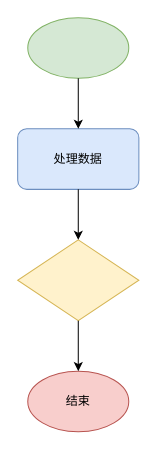
Some shapes in this 157 by 449 pixel diagram are drawn without their labels. The centre of each missing label's shape, as x and y in pixels:
判断条件: pixel 78 280
开始: pixel 78 47
